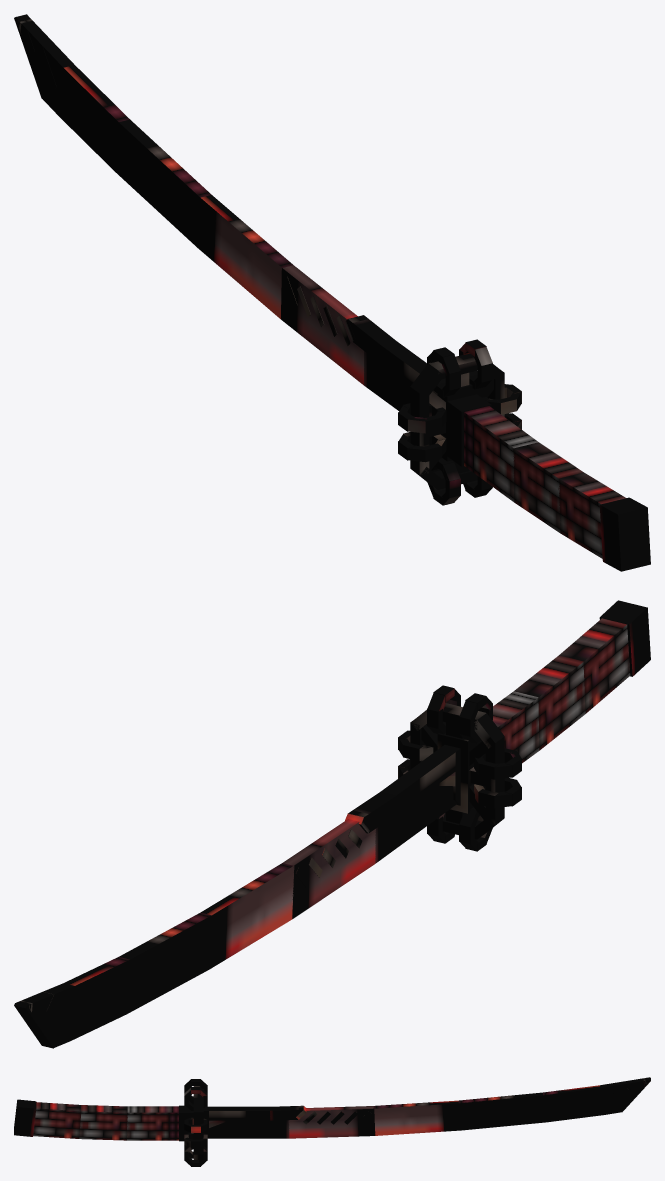
File: satsujin.obj
3 views of the same model, one above another, from view 1: azimuth 30°, elevation 25°; view 2: azimuth 150°, elevation 25°; view 3: azimuth 270°, elevation 25° (orthographic). The views are drawn at different scales.
Visible parts, largest first — view 1: cube.111; view 2: cube.111; view 3: cube.111.
Boxes of the visible parts, x1=… form: cube.111: x1=14, y1=14, x2=650, y2=571; cube.111: x1=14, y1=600, x2=650, y2=1048; cube.111: x1=14, y1=1077, x2=650, y2=1166.
Bounding box in the file's own units: 0.3131 × 0.4176 × 2.92.
